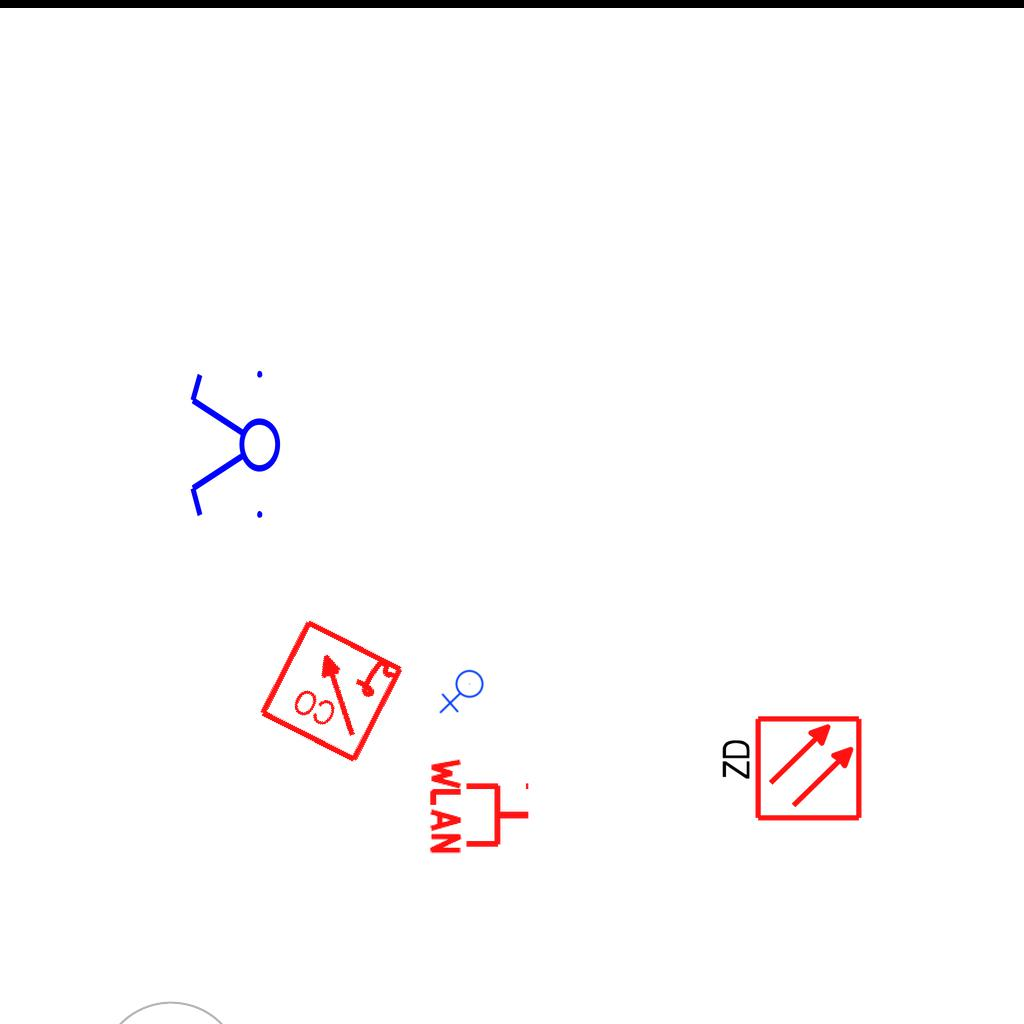Elektroanschluss_allgemein_230V_Geraeteanschlussdose_230V: (439, 669, 488, 716)
ROA_Rauchmelder_optisch_mit_Signalgeber_(Sockelsirene): (255, 613, 408, 766)
Serienschalter: (186, 362, 282, 530)
WLAN: (428, 754, 533, 858)
ZD_Melder_in_Zwischendecke_mit_Revisionsoeffnung_mind_40_x_40_cm: (715, 713, 864, 827)
